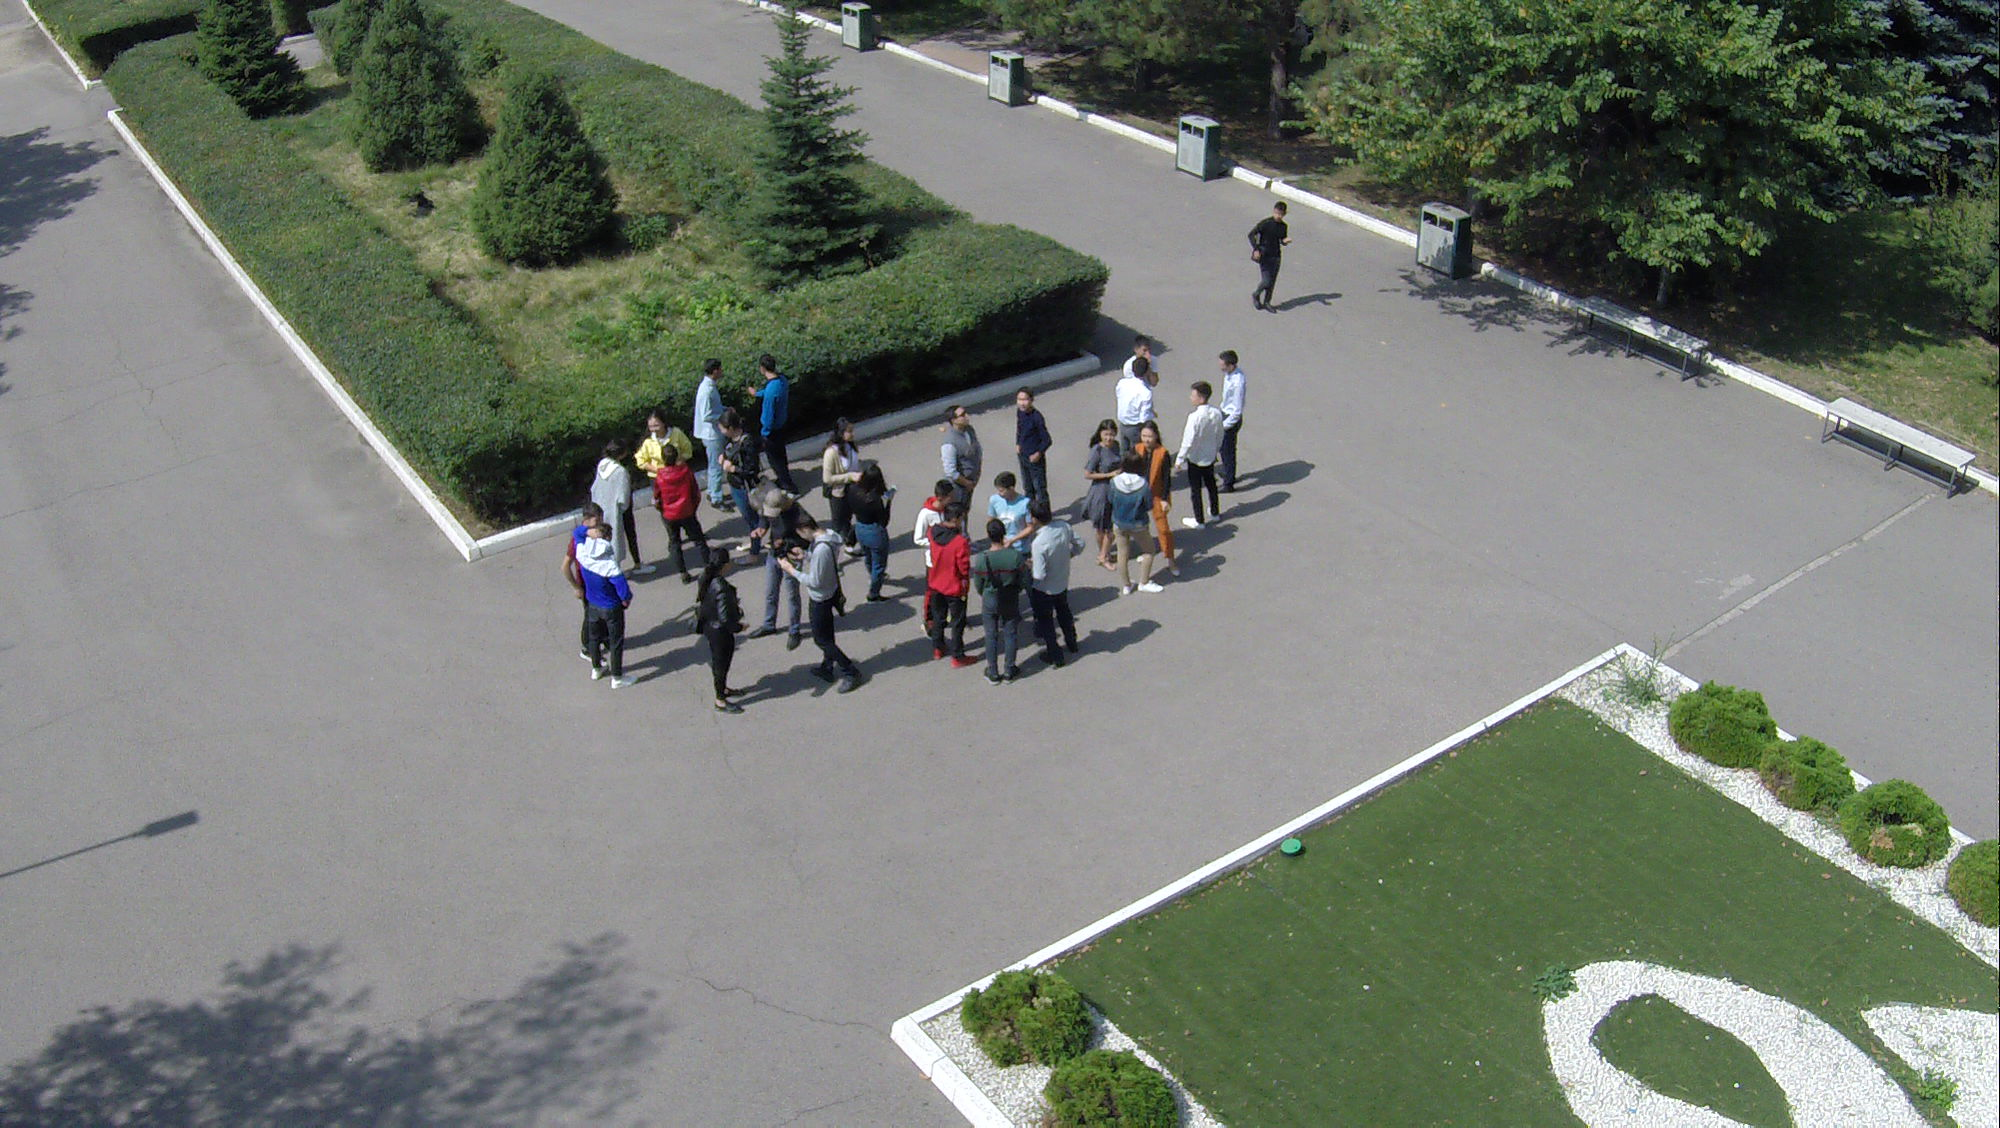person: (793, 524, 862, 697), (689, 551, 749, 724), (974, 528, 1030, 693), (926, 508, 976, 678), (1101, 455, 1160, 599), (651, 453, 718, 572), (1032, 503, 1078, 658), (855, 460, 901, 612), (585, 530, 628, 685), (1178, 378, 1220, 530), (1005, 389, 1060, 487), (747, 355, 787, 476), (1220, 351, 1251, 501), (1255, 195, 1293, 320), (826, 416, 870, 514), (685, 358, 722, 458), (1110, 370, 1153, 441), (941, 410, 978, 483), (597, 453, 630, 528), (985, 470, 1020, 533), (641, 416, 685, 455), (1091, 416, 1116, 458), (574, 512, 597, 551), (1124, 335, 1149, 368)
